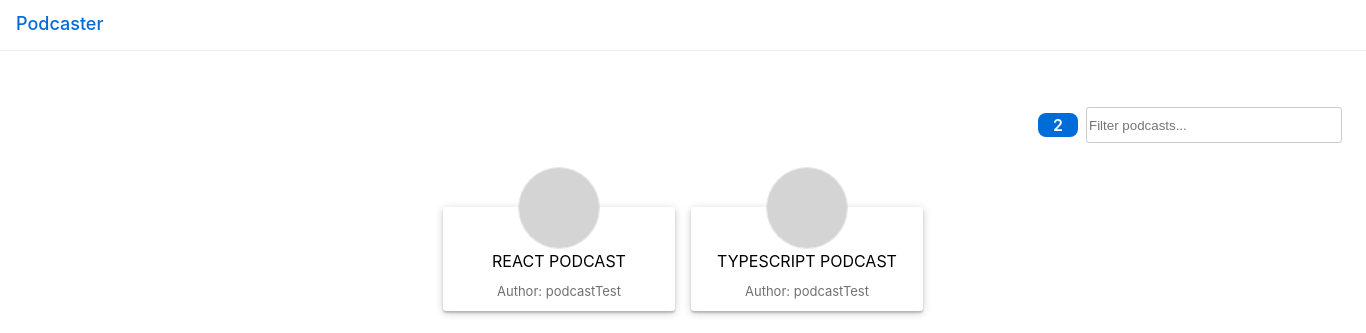
Test: Home Component › should handle special characters in filter text
The image size is (1366, 333).
Note: Filter by name with special characters
Type "Rea*ct" into the field with placeholder "Filter podcasts..." at (1214, 125), box [1086, 107, 1342, 143]
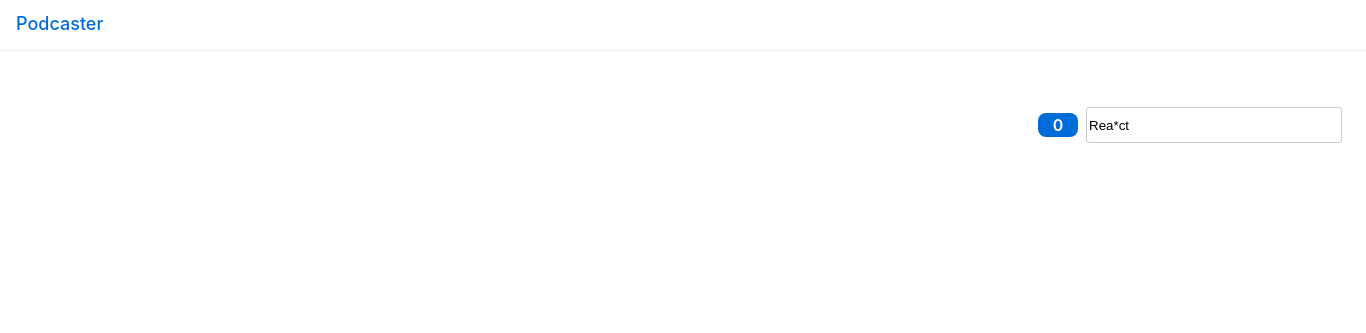
Now the link "REACT PODCAST" is gone
Now the link "TYPESCRIPT PODCAST" is gone
